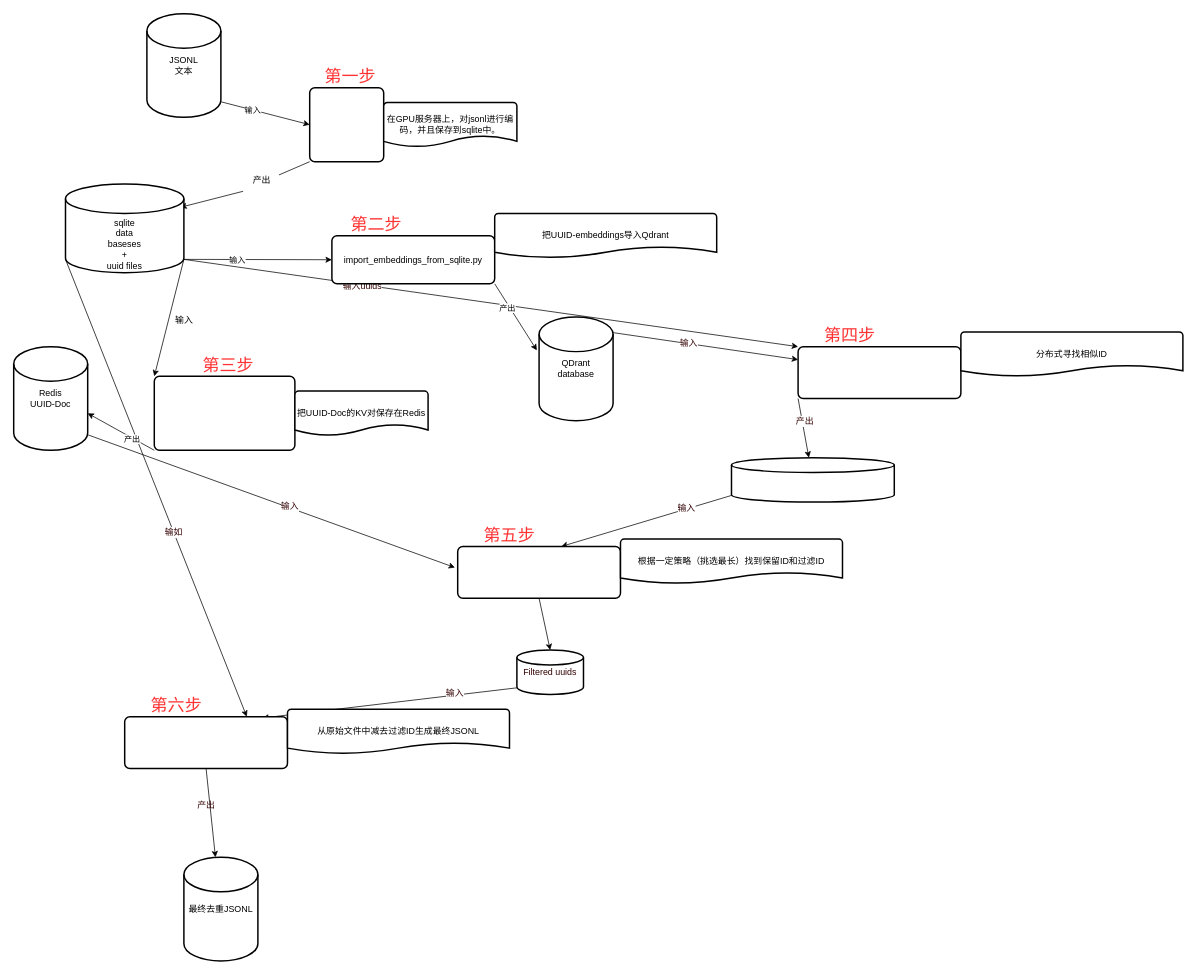
This 1196x974 diagram has some shape labels left out. Here are the shapes that lost their labels. From the top down, the centre of each, then its label:
point (346, 124): encoding_sql.py
point (879, 372): src/03_vdb_query_similarity.py
point (224, 413): import_from_sql_to_redis.py
point (812, 479): Multiple csv files include scores and ids
point (539, 572): 05_merge_filtered_uuids.py
point (206, 742): 06_generate_final_dedup_jsonl.py
